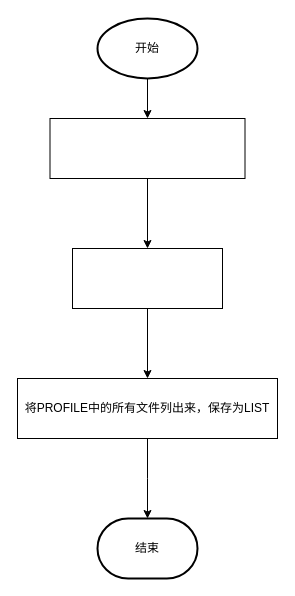
Image size: 295x596. Some labels were removed from this diagram. The centre of each missing label's shape, as x and y in pixels:
获取程序安装目录路径为ROOT: [147,148]
配置方案目录为： PROFILE=ROOT/profile: [147,278]
